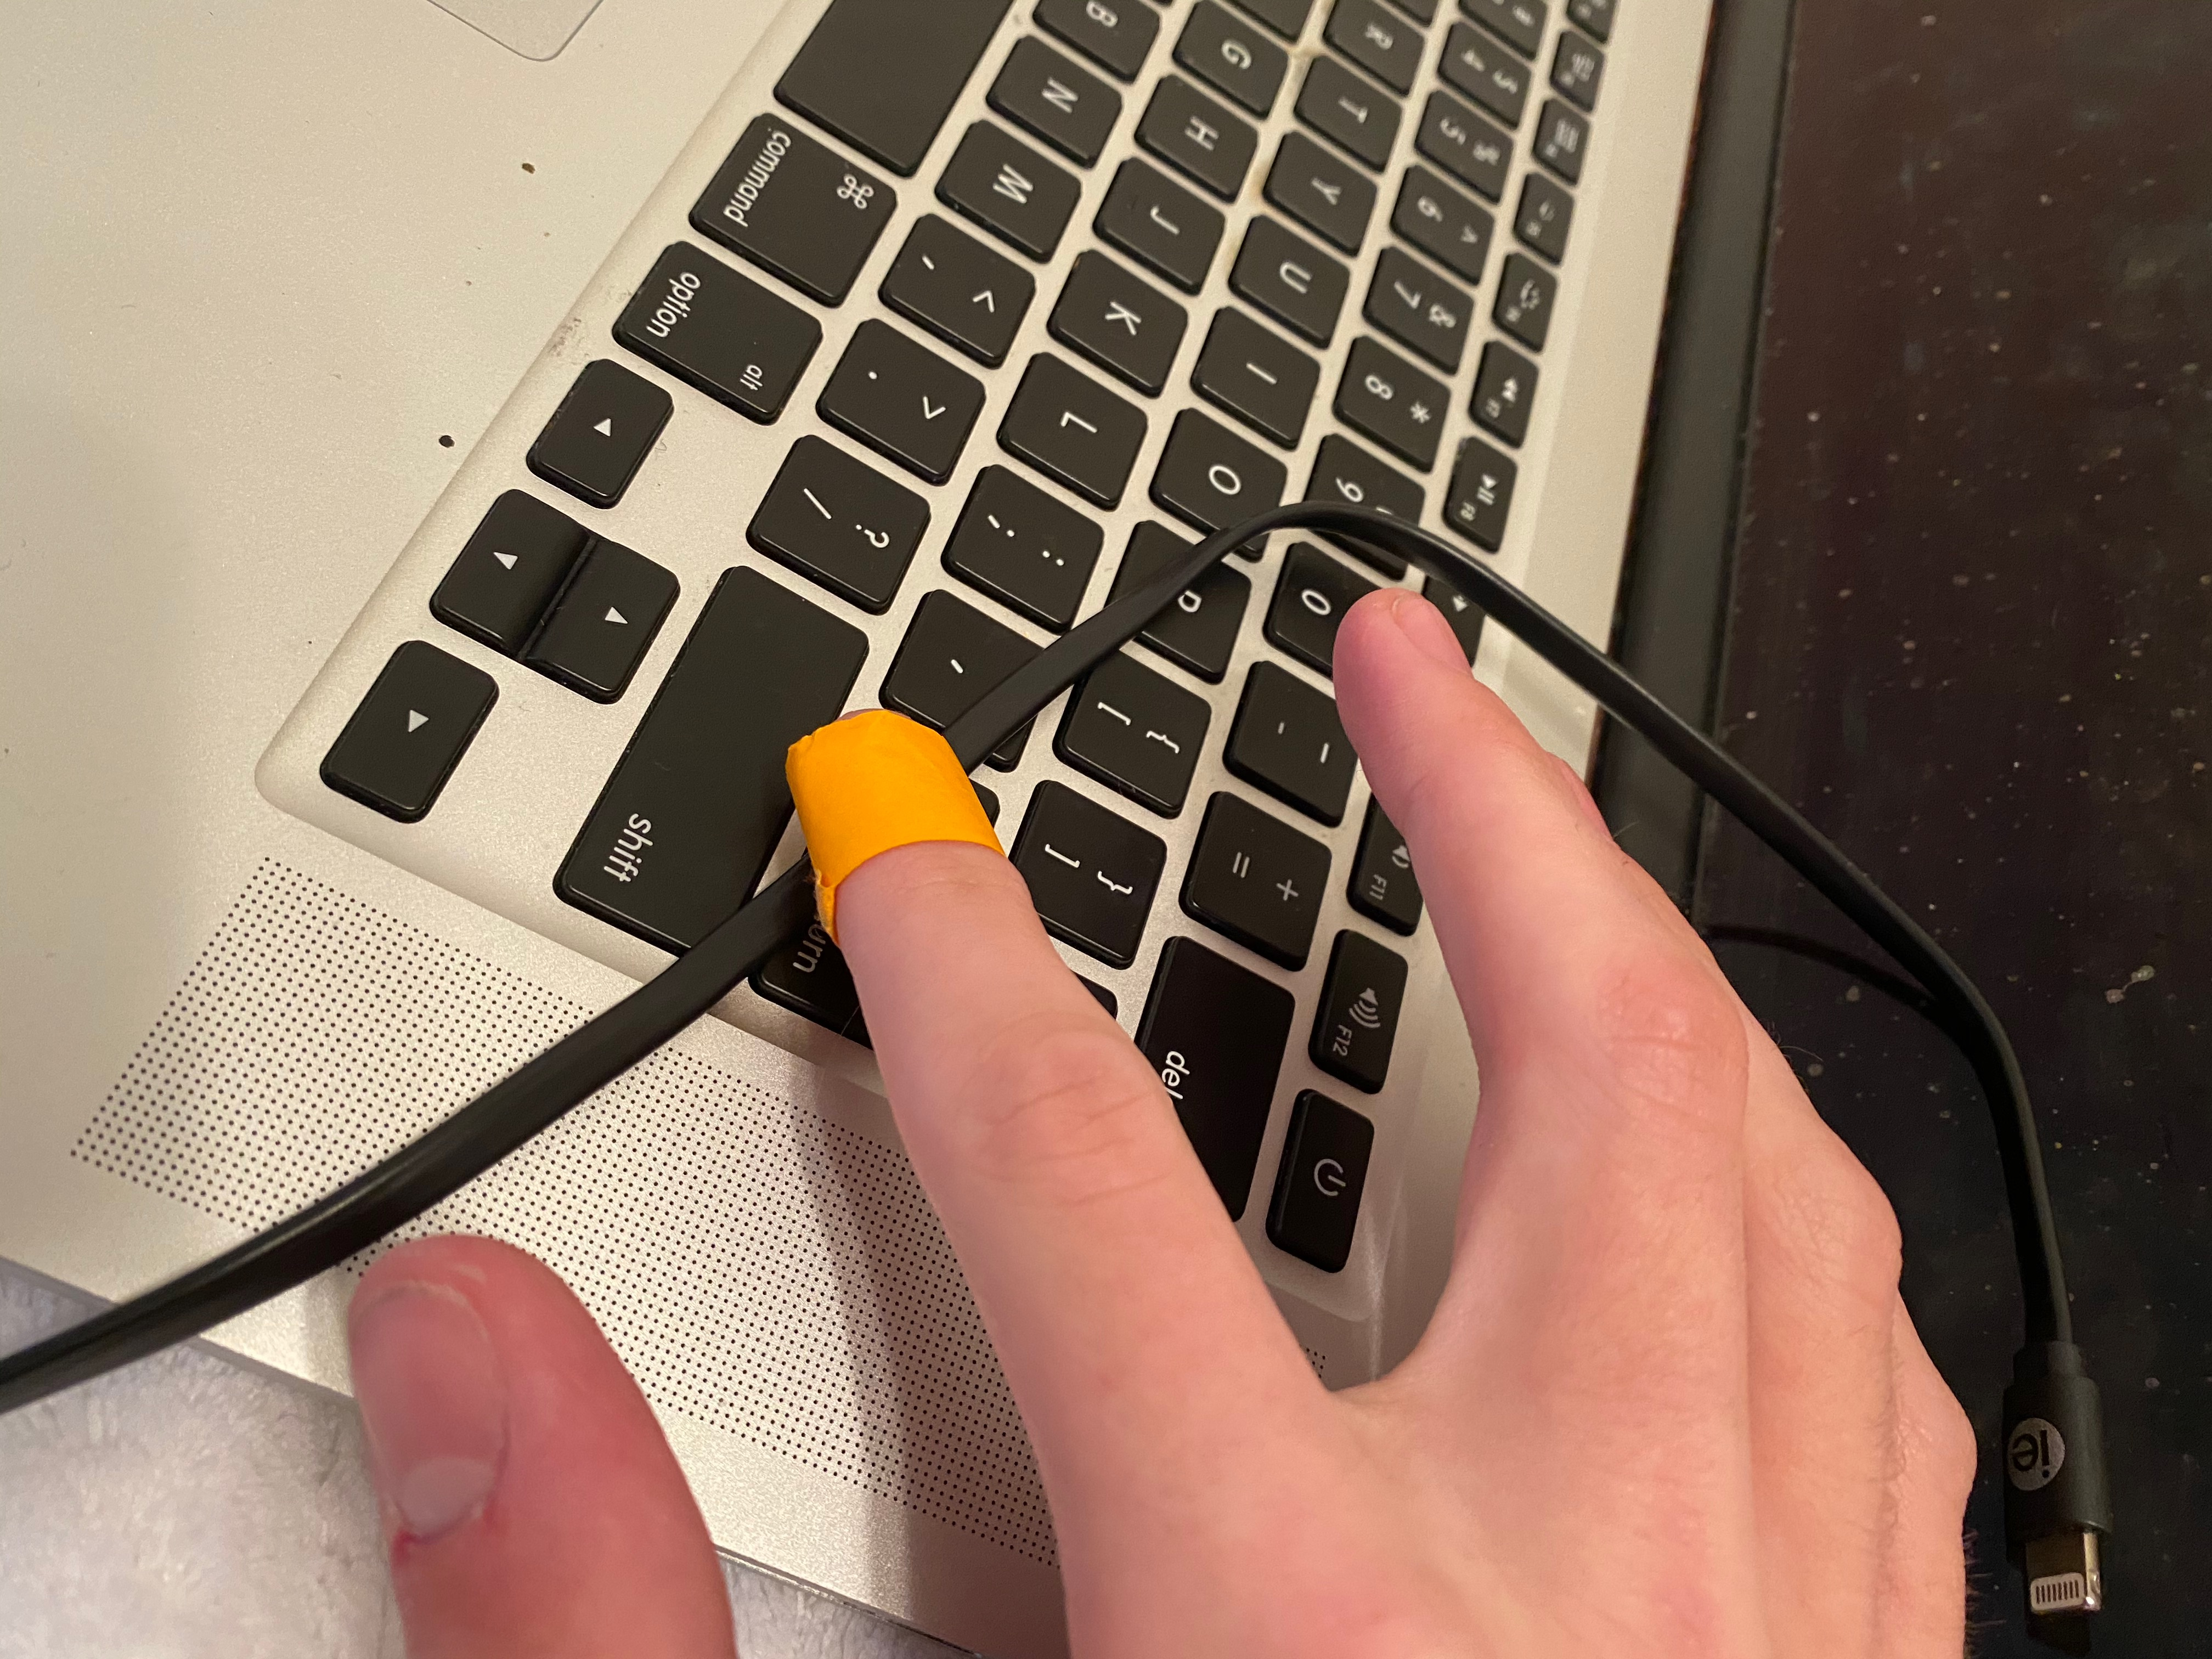fingertip: (725, 687, 1078, 962)
